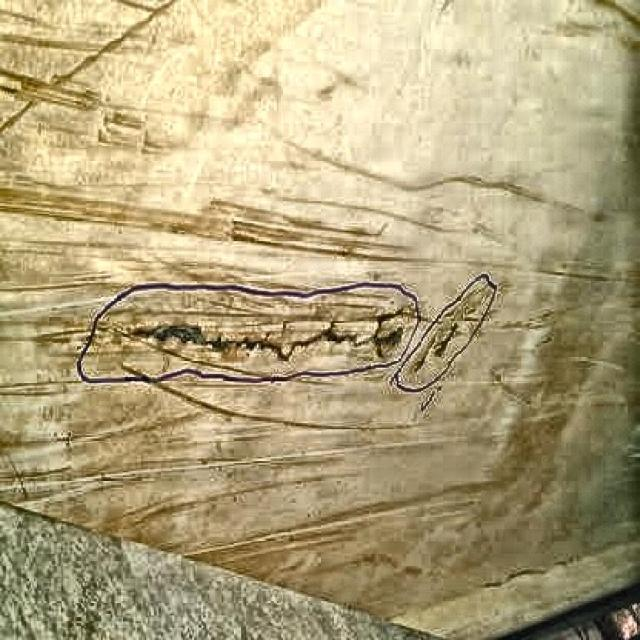crack: (127, 312, 404, 365), (418, 327, 458, 370)
